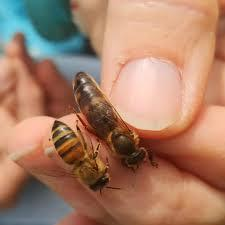Queen-Bee: (73, 72, 157, 169)
worker-bee: (51, 120, 119, 190)
